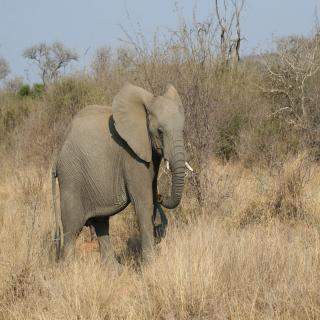Elephant: (48, 79, 194, 273)
